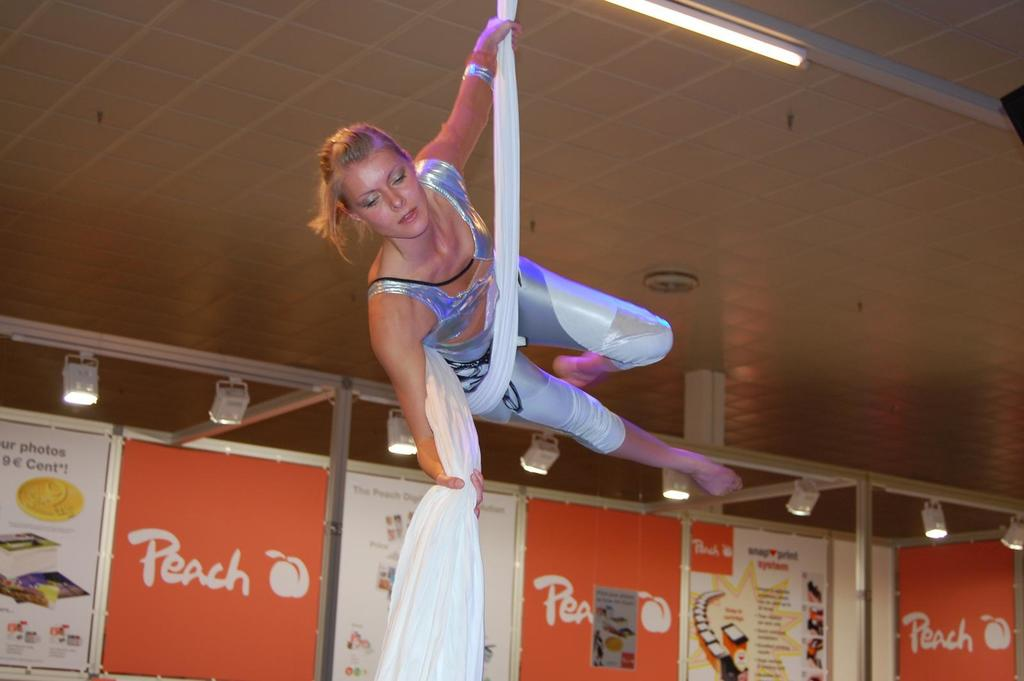Person: (305, 15, 743, 520)
